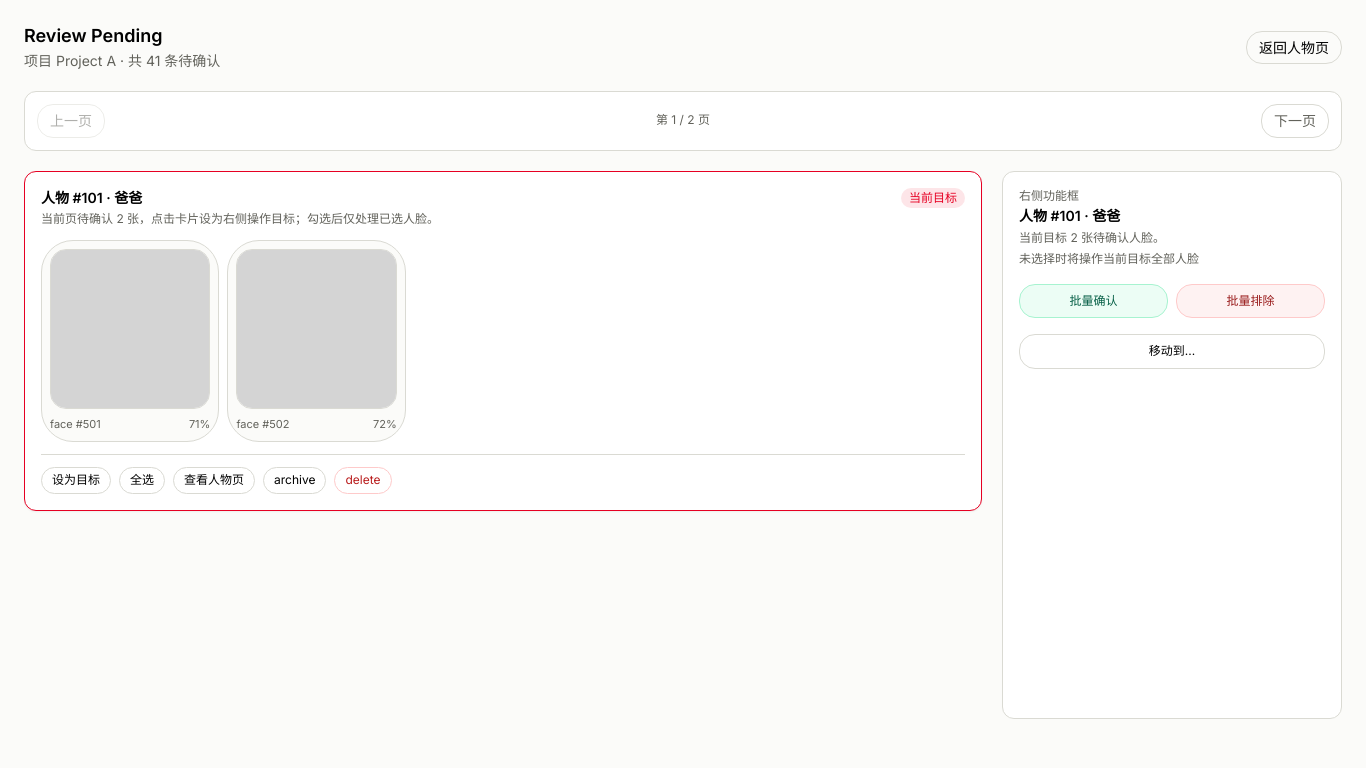
PeopleReviewPage › moves to the next page and requests the next offset
expect the text "第 1 / 2 页" is shown: met, box 656,112 -> 710,129
Click the button "下一页".
click(1295, 121)  # box 1261,104 -> 1329,138
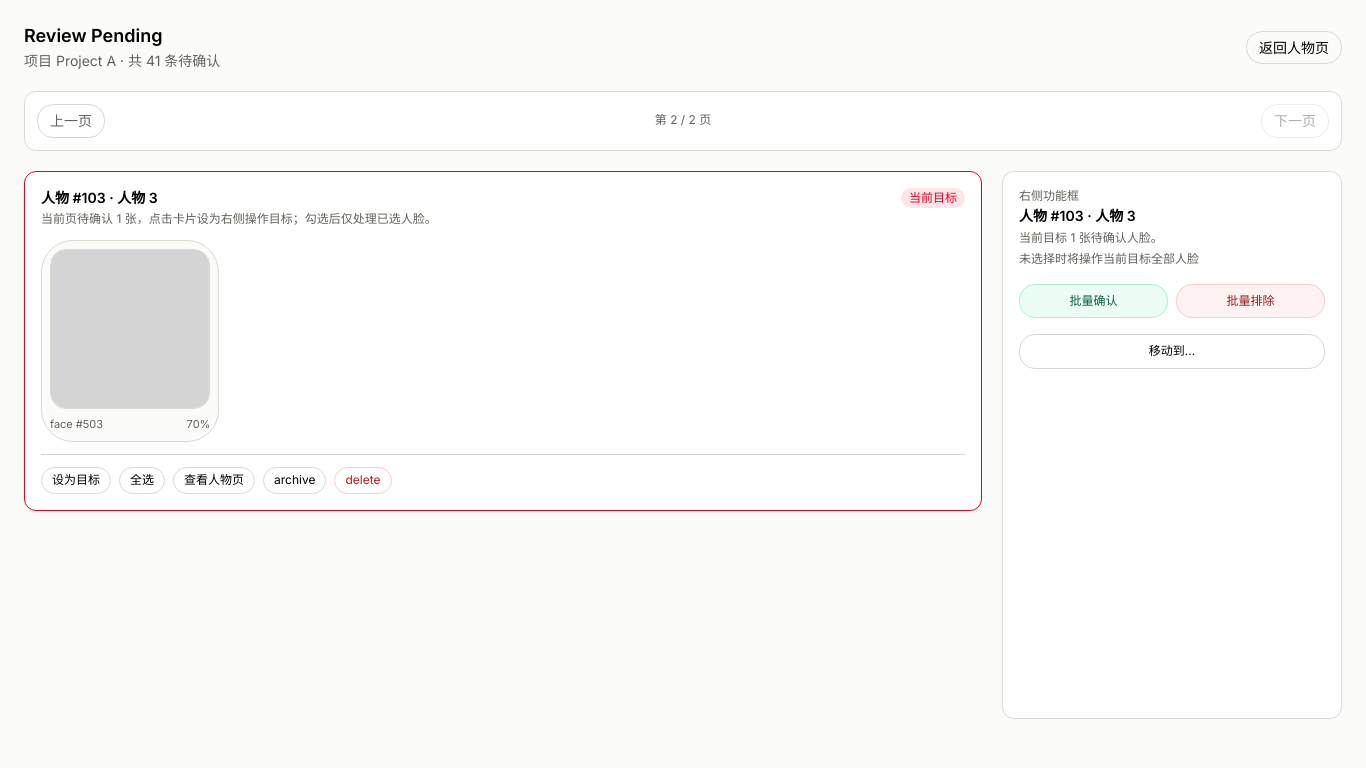
expect the button "批量确认" is shown: met, box 1019,284 -> 1168,318
expect the text "第 2 / 2 页" is shown: met, box 655,112 -> 711,129
expect the 1st heading "人物 #103 · 人物 3" is shown: met, box 41,189 -> 158,206
